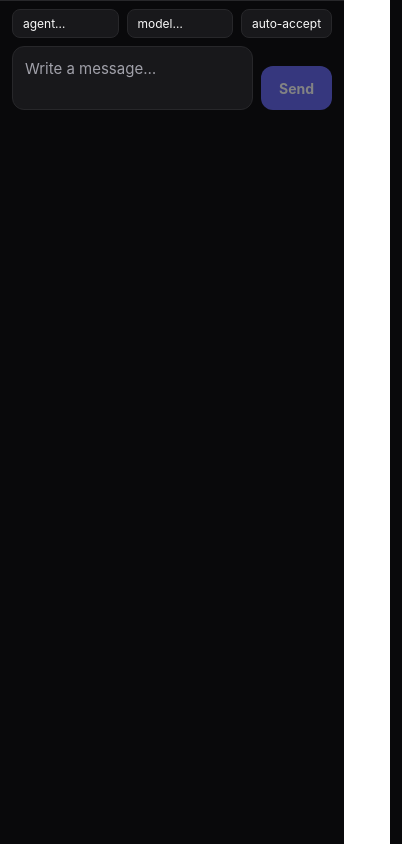
Test: Composer › dismisses suggestions on blur and restores them on focus
Type "/rev" into the text box with placeholder "Write a message…" at point(132, 78), box [12,46,253,110]
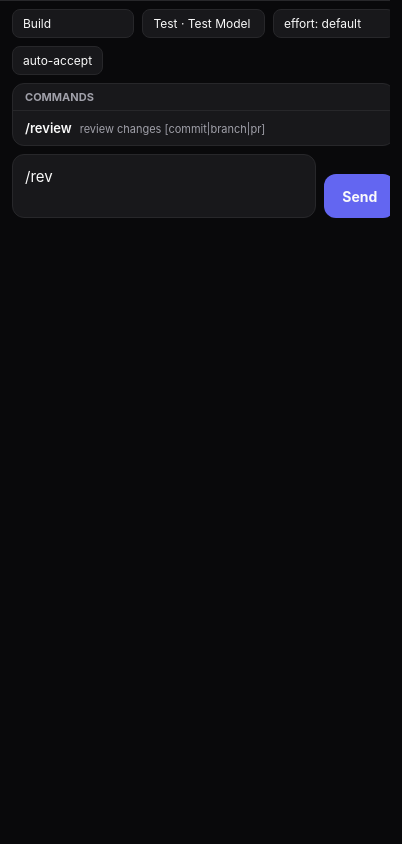
expect the text "/review" is shown: met, box [25,120,72,136]
Leave the text box with placeholder "Write a message…", box [12,154,316,218]
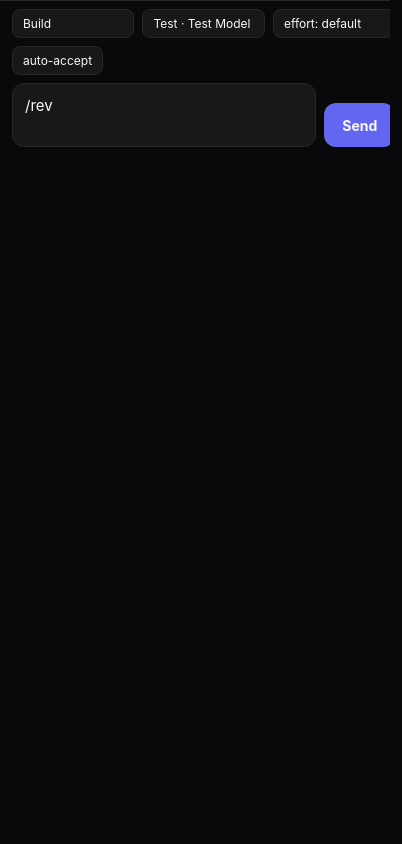
expect the button "/review" is gone: met
Focus the text box with placeholder "Write a message…" at point(164, 115), box [12,83,316,147]
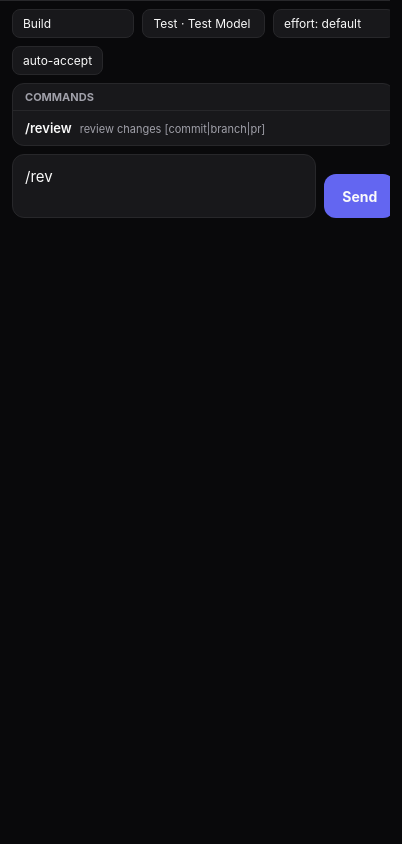
expect the text "/review" is shown: met, box [25,120,72,136]
